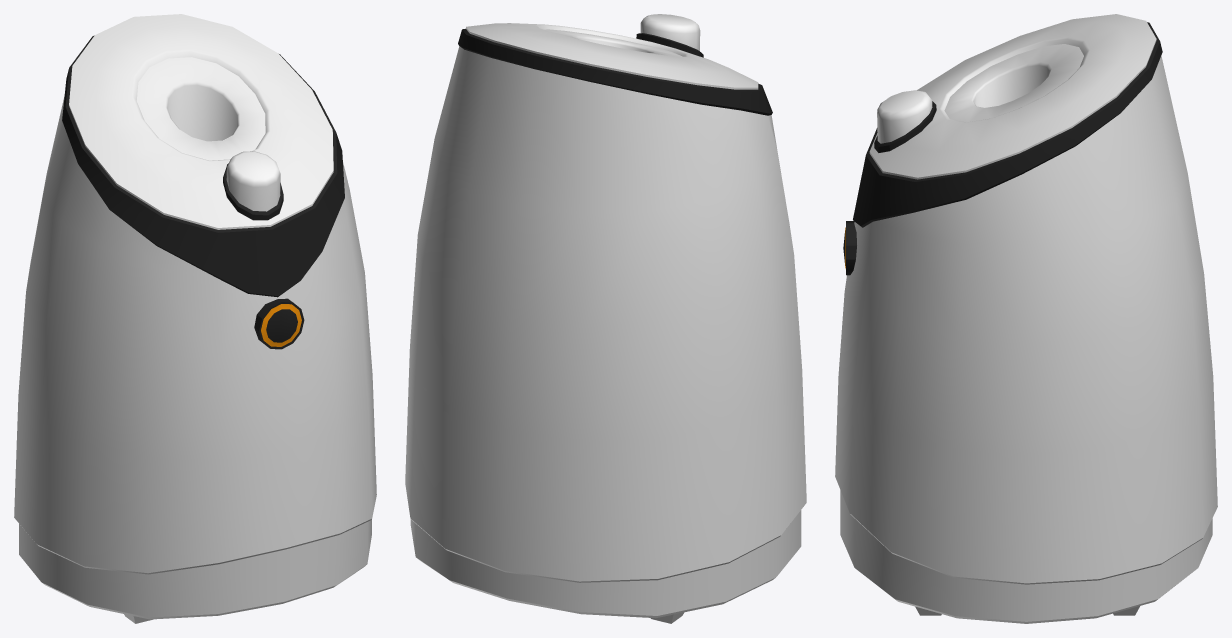
File: Mask_Machine.fbx
3 views of the same model, side by side, from view 1: azimuth 30°, elevation 25°; view 2: azimuth 150°, elevation 25°; view 3: azimuth 270°, elevation 25° (orthographic). The views are drawn at different scales.
Parts seen in each view (by area): view 1: Mask_Machine, Button; view 2: Mask_Machine, Button; view 3: Mask_Machine, Button.
Part boxes in pixels (<box>): Mask_Machine: <box>14,14,376,623</box>; Button: <box>226,151,280,211</box>; Mask_Machine: <box>405,23,806,623</box>; Button: <box>640,14,700,50</box>; Mask_Machine: <box>835,14,1217,623</box>; Button: <box>877,90,932,143</box>.
Size of the model in its own units: 11 by 16.49 by 11.
